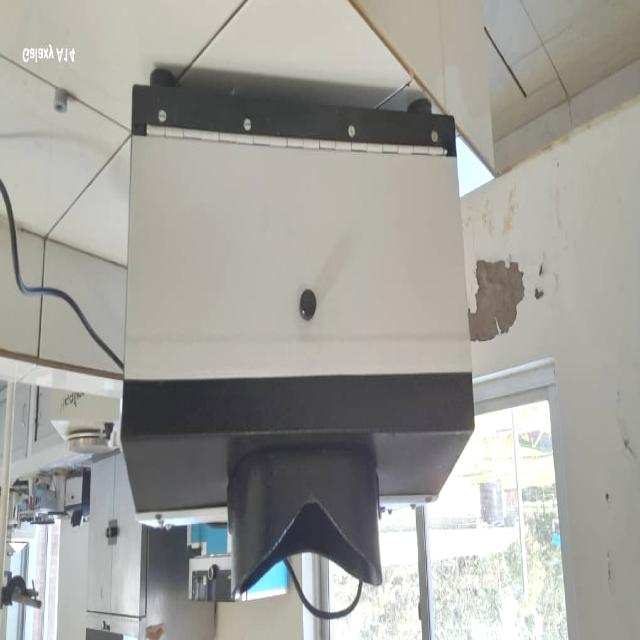U.V Cabinet: (122, 82, 474, 598)
